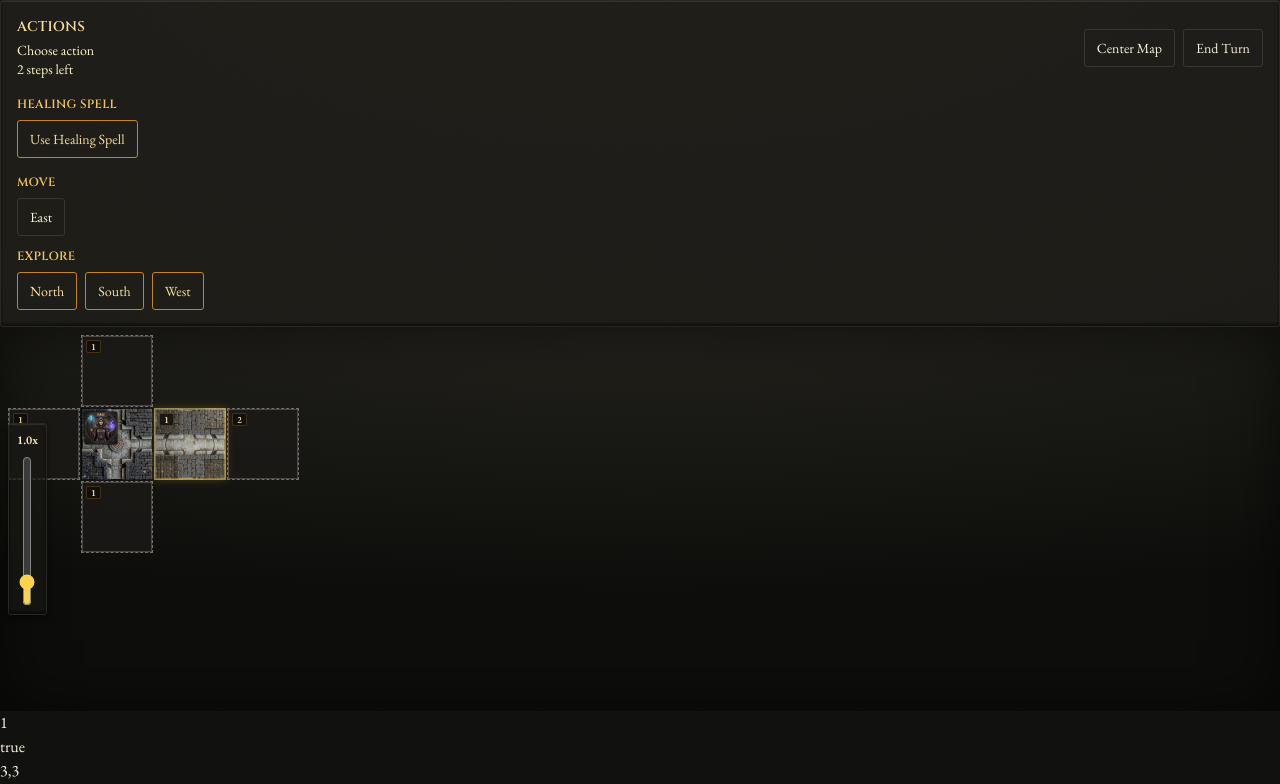
it: Milestone 6 UI › keeps the active hero movement options after healing another hero
The image size is (1280, 784).
Step 1. Click the button "Use Healing Spell" → (77, 138), box [17,120,138,158]
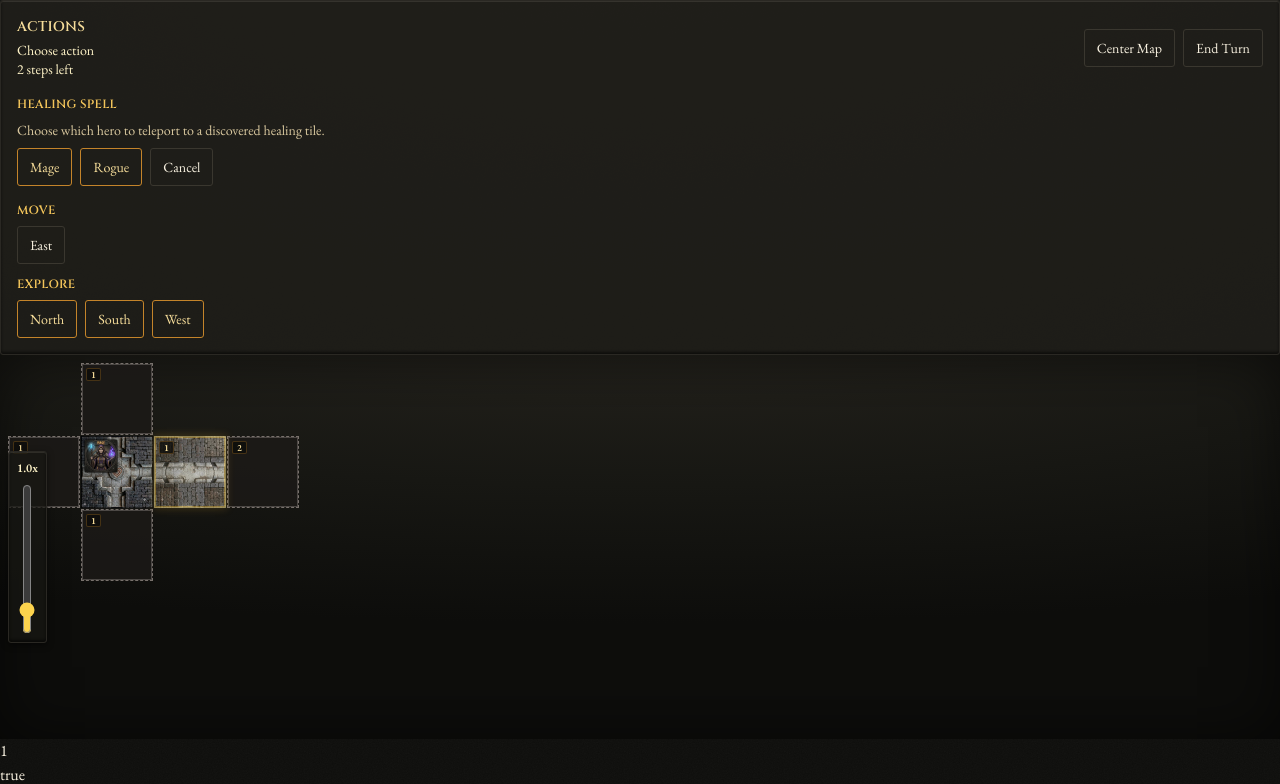
Step 2. Click the button "Rogue" → (111, 166), box [80,148,142,186]
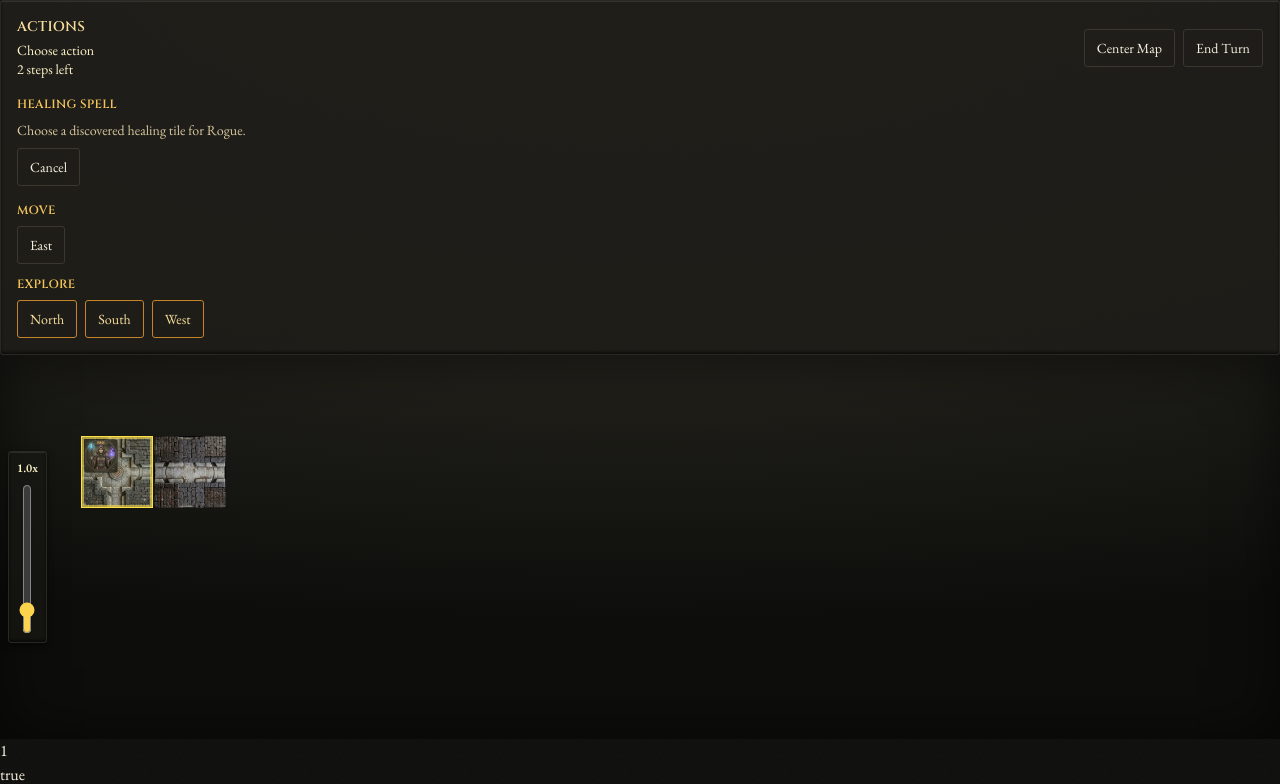
Step 3. Click the button named "Select healing tile 0,0" → (117, 472), box [81,436,153,508]
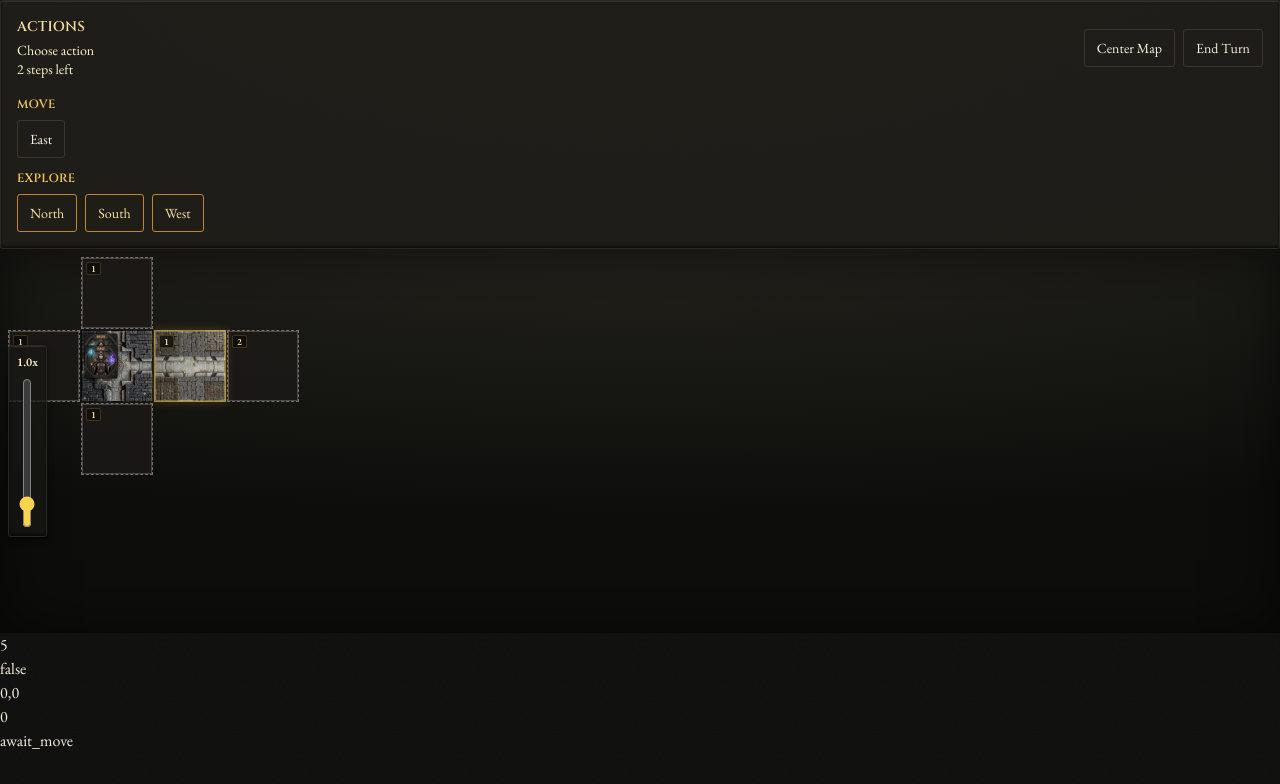
Expected: the button "Select healing tile 0,0" is not shown
Expected: the button named "Move to tile 1,0" is shown, [154,330,226,402]
Expected: the text with test id "healing-target-position" reads "0,0", [0,682,19,702]
